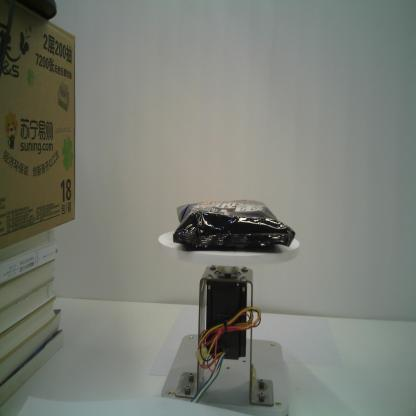Instant Noodles: (171, 198, 296, 252)
